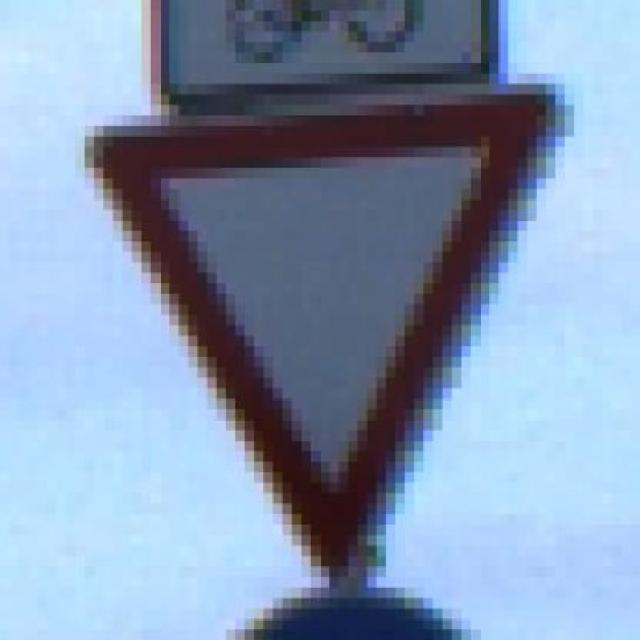Give Way: (82, 62, 600, 630)
